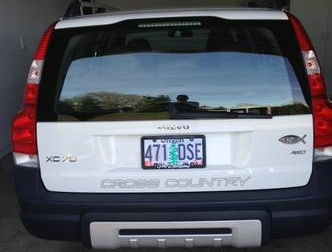volvo: (11, 7, 332, 247)
